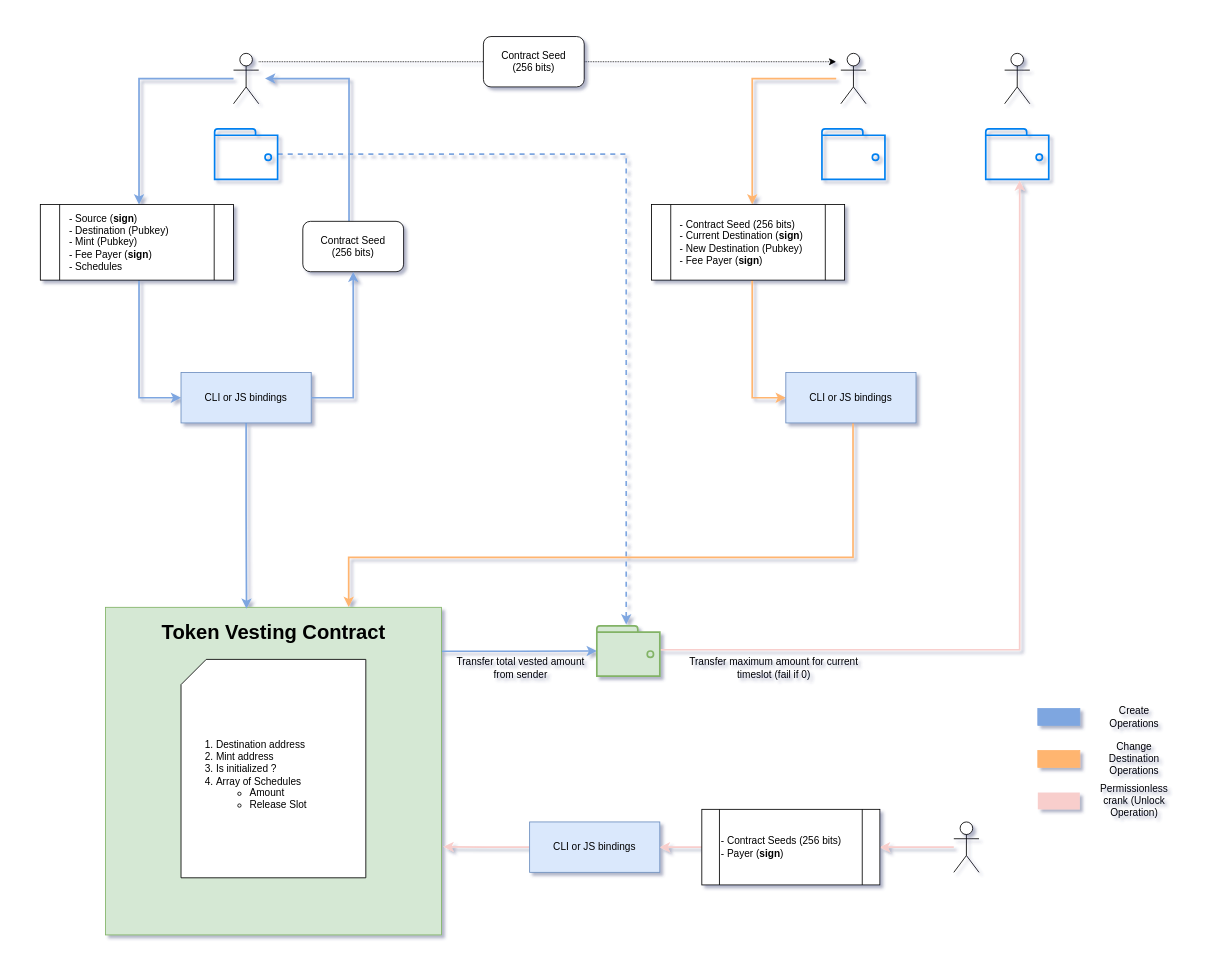
Some shapes in this 1213 by 978 pixel diagram are drawn without their labels. Here are the shapes that lost their labels. From the top down, the centre of each, then its label:
At (246,78): "Contract creator".
At (853,78): "Initial Recipient".
At (1017,78): "Recipient at unlock time".
At (628,651): "Contract Account".
At (966,846): "Cranker".
